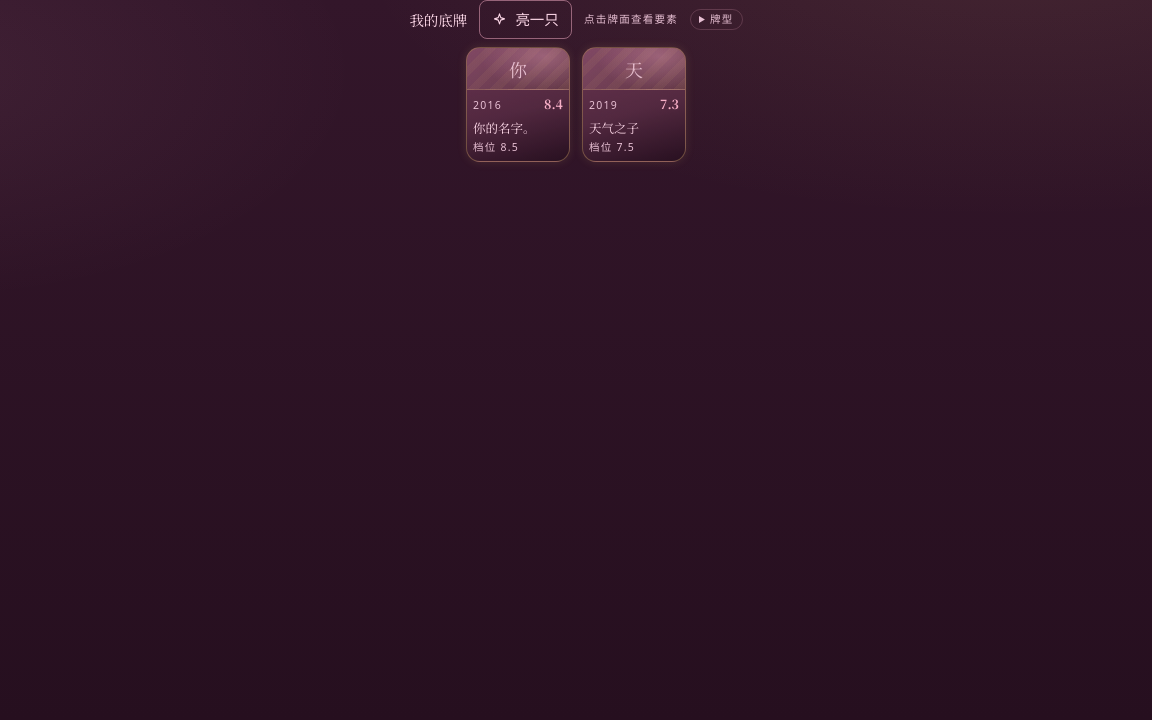
Scenario: HoleCards 底牌揭示 › ESC 取消私看：弹层关闭且不揭示
Click the button with aria-label "揭示《天气之子》的要素" at (634, 105), box x1=582 y1=47 x2=686 y2=162
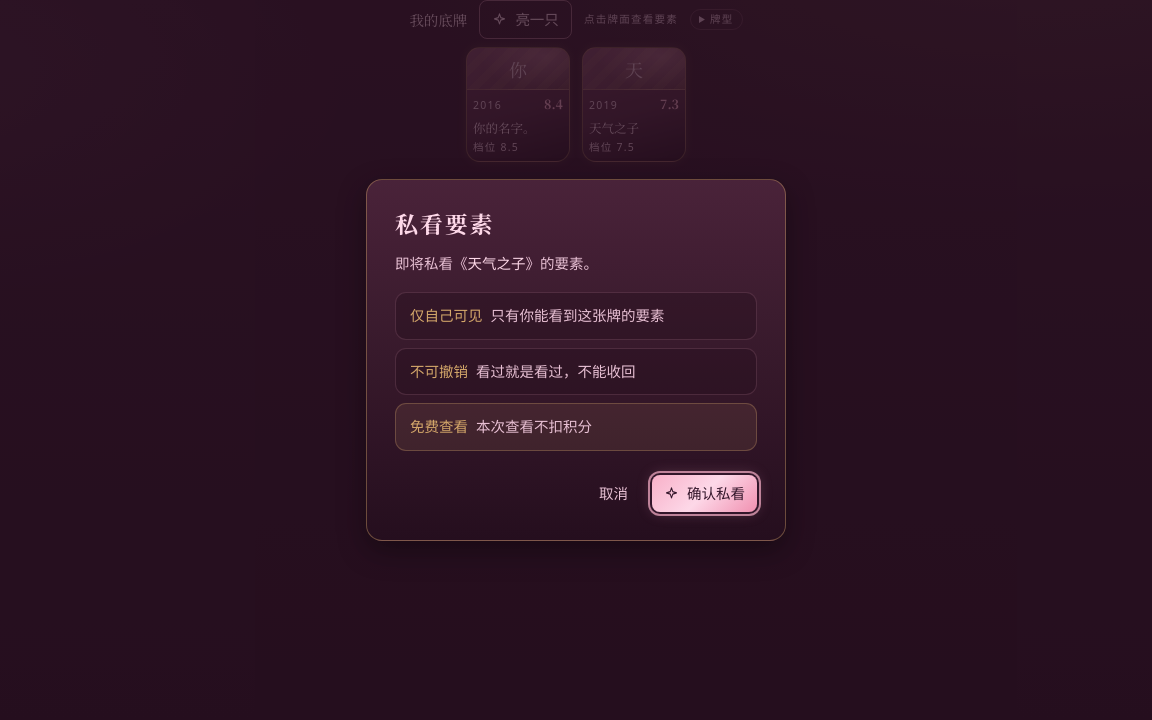
Press Escape in the dialog
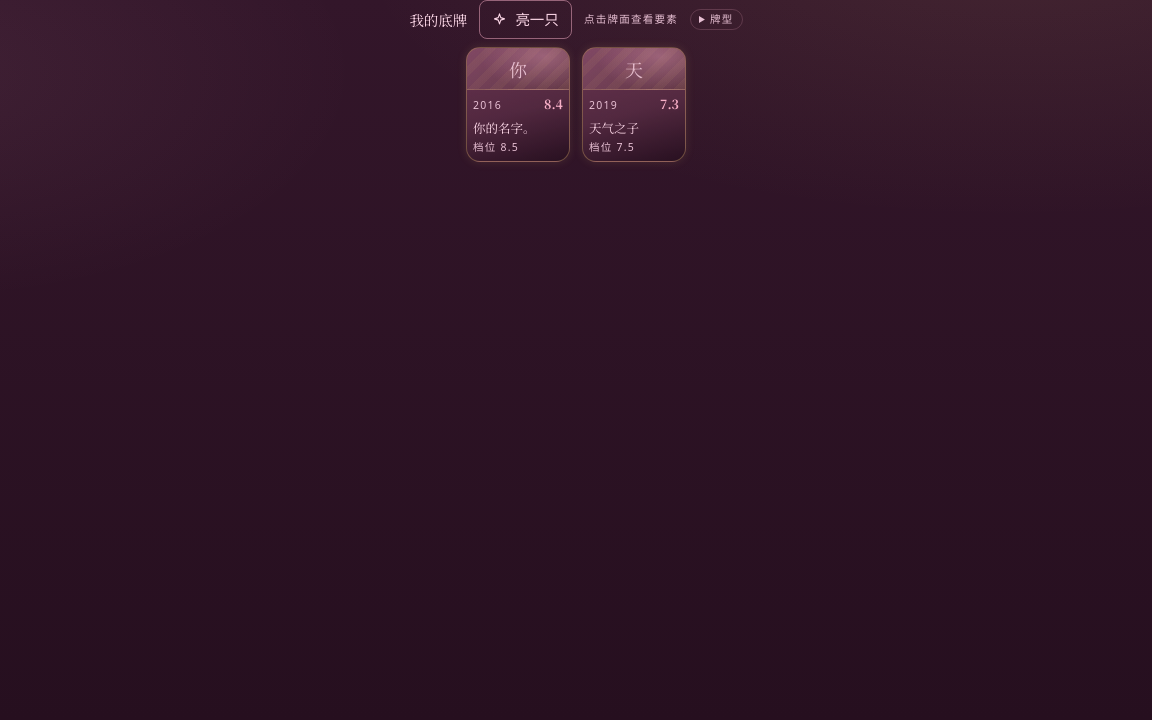
Check: the dialog is gone
